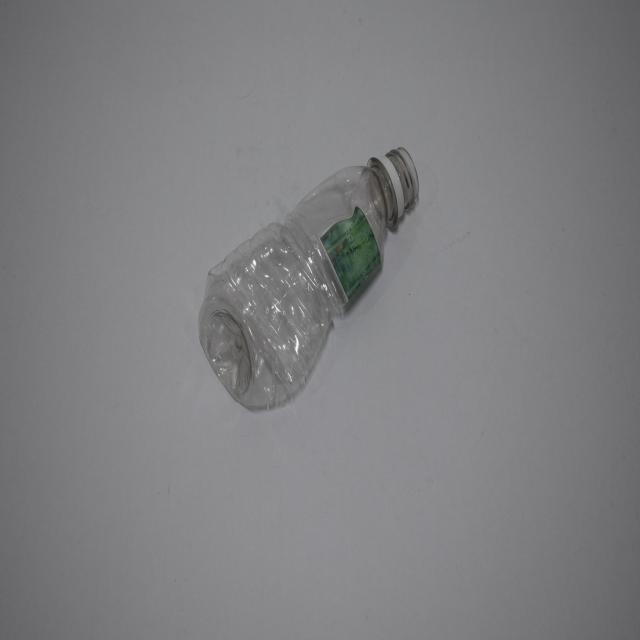plastic: (196, 144, 419, 408)
